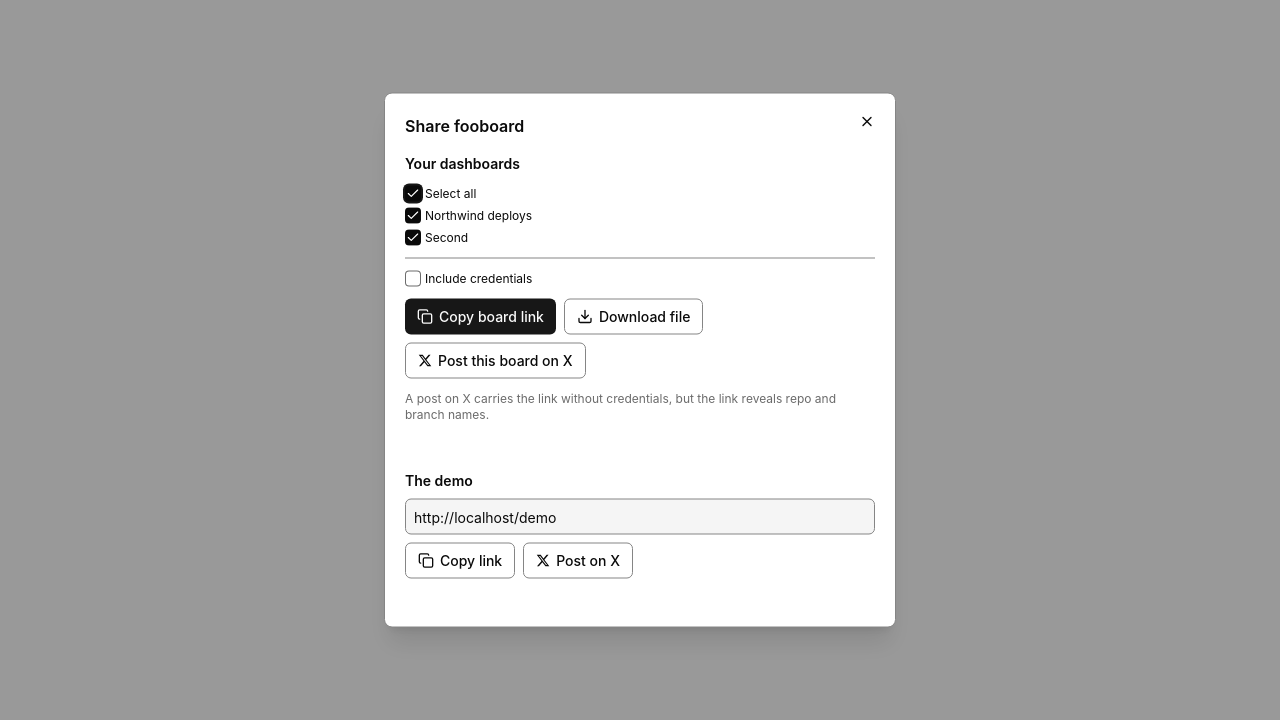
sharing saved dashboards › copies a link with every dashboard and no secret by default
Expected: the checkbox named "Select all" next to "Select all" is checked, [405,186,421,202]
Expected: the checkbox named "Include credentials" next to "Include credentials" is not checked, [405,270,421,286]
Click the checkbox named "Second" next to "Second": (413, 238) [405,230,421,246]
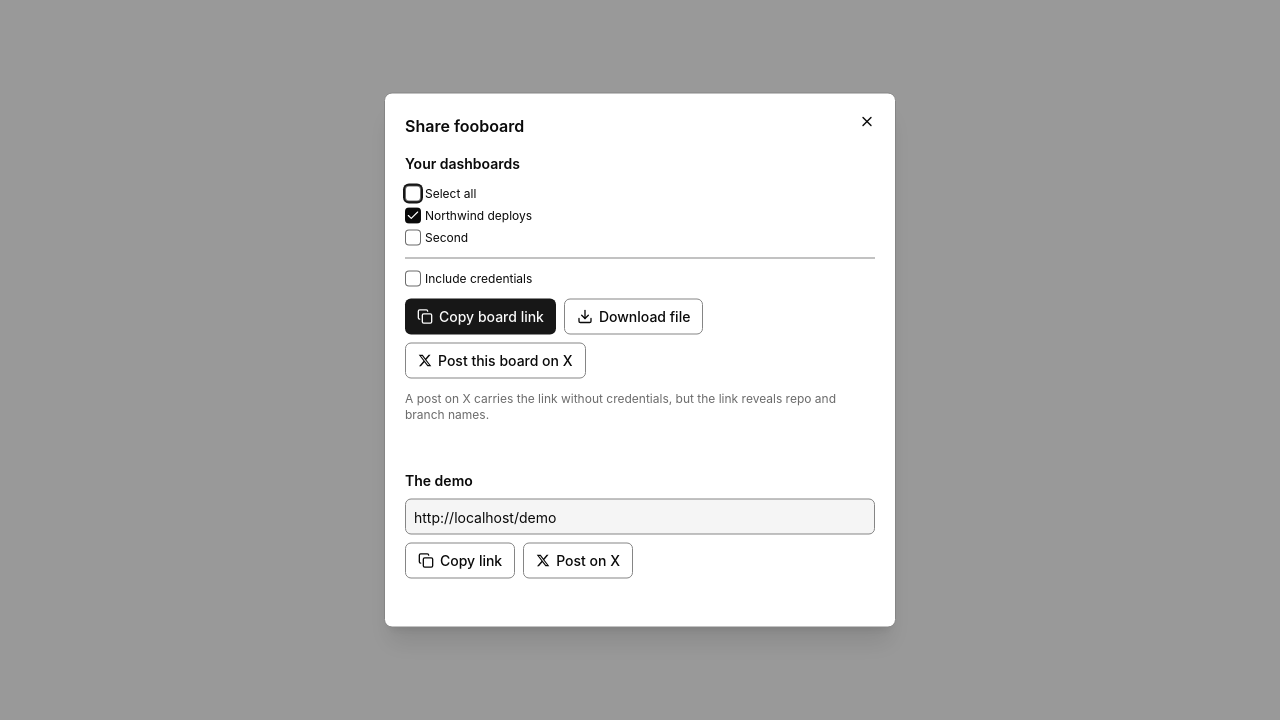
Click the button "Copy board link": (480, 316) [405,298,556,334]
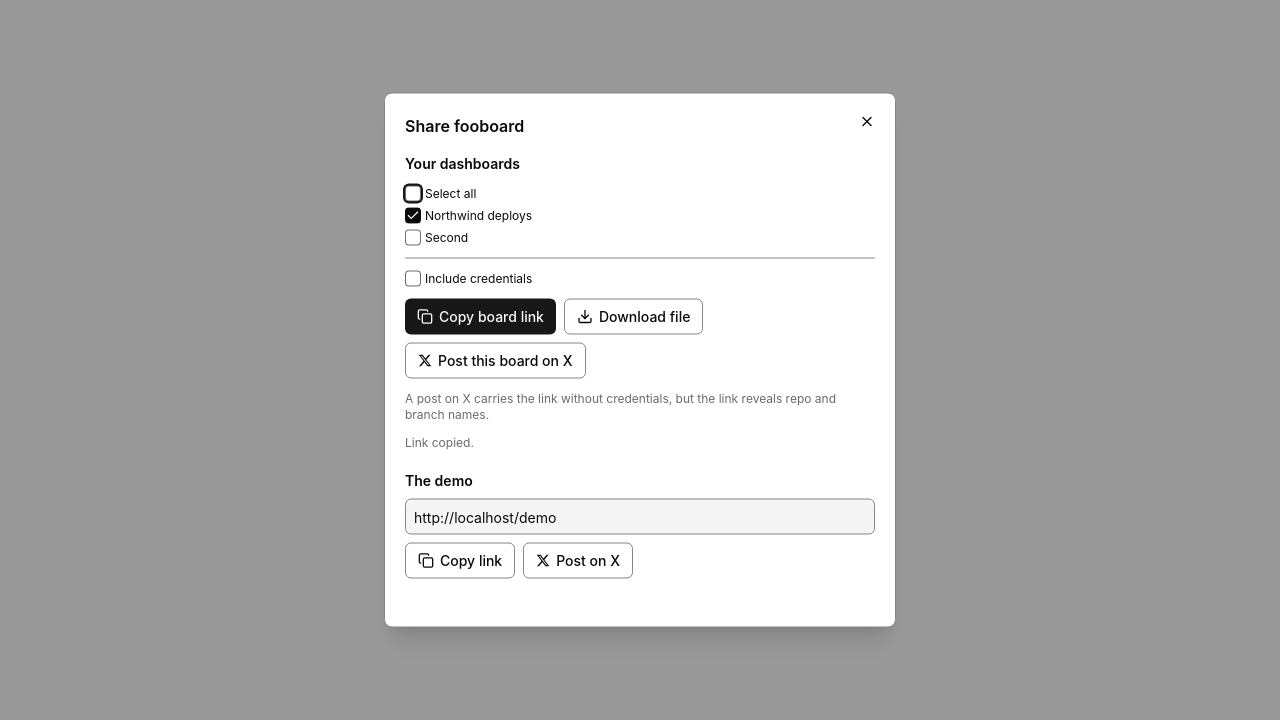
Result: the message "Link copied." is shown at [405,434,474,450]
